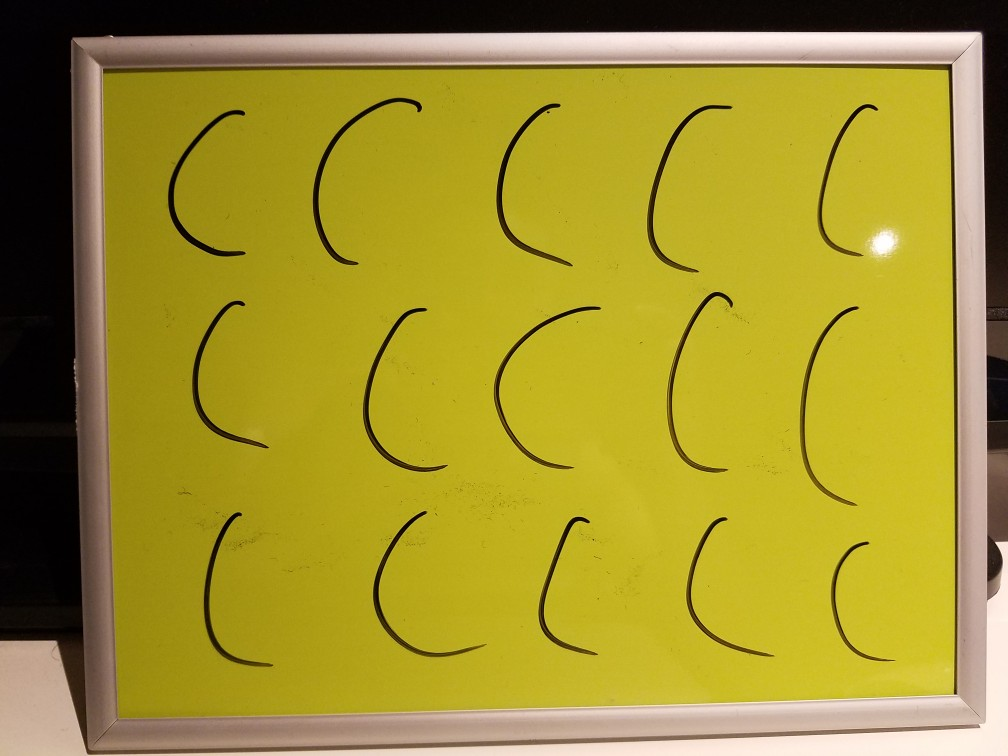(: (304, 86, 439, 281), (491, 297, 610, 487), (657, 287, 768, 489), (353, 295, 462, 491), (357, 504, 488, 666), (639, 91, 744, 282), (177, 294, 287, 470), (786, 286, 868, 518), (154, 92, 260, 269), (485, 93, 589, 273), (182, 499, 281, 681), (670, 506, 775, 669), (810, 85, 893, 275), (517, 500, 604, 670), (812, 532, 905, 666)
